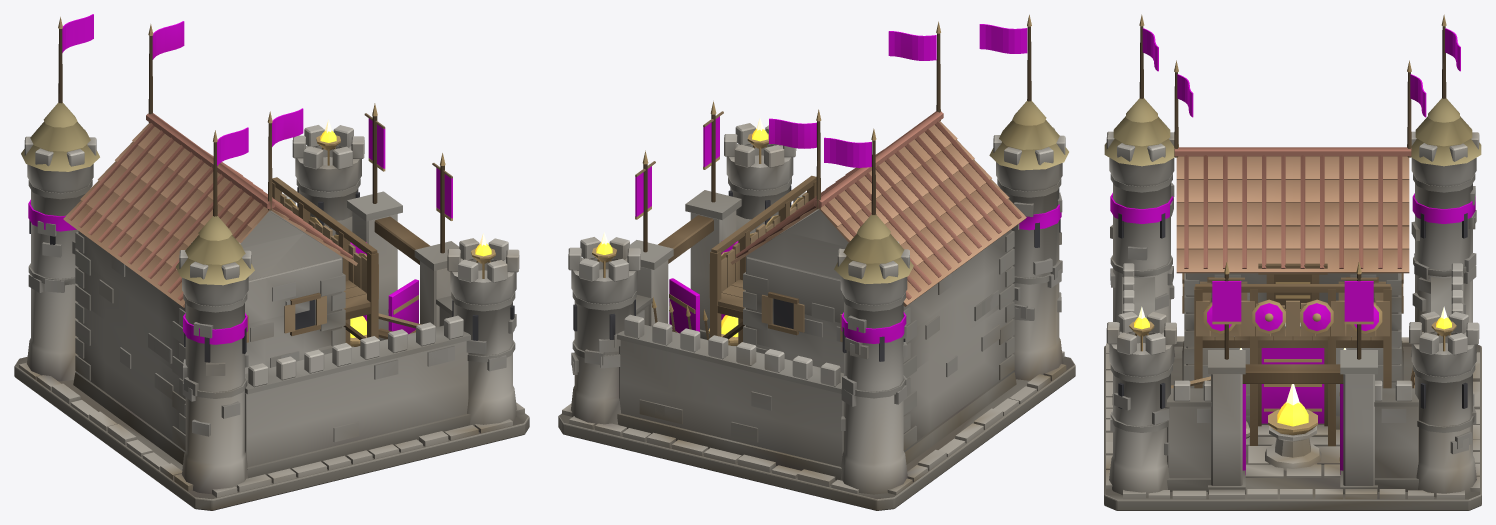
File: command_center_antiquity.glb
3 renders of one model, left to right at view 1: azimuth 30°, elevation 25°; view 2: azimuth 150°, elevation 25°; view 3: azimuth 270°, elevation 25°, orthographic. The views are drawn at different scales.
Visible parts, largest first — view 1: Body; view 2: Body; view 3: Body.
Boxes of the visible parts, <box> form: Body: <box>14,14,529,510</box>; Body: <box>558,14,1075,510</box>; Body: <box>1104,14,1481,510</box>.
Size of the model in its own units: 6.02 by 6.2 by 6.
1 material, 1 textured.
